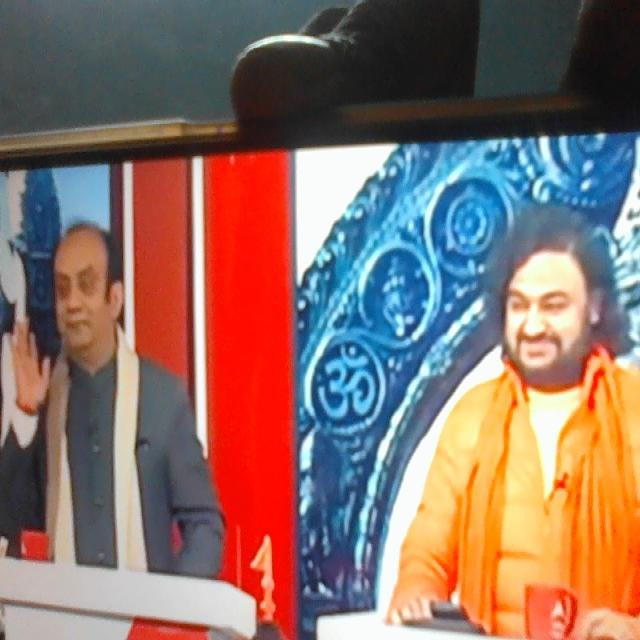fake: (495, 188, 609, 403)
